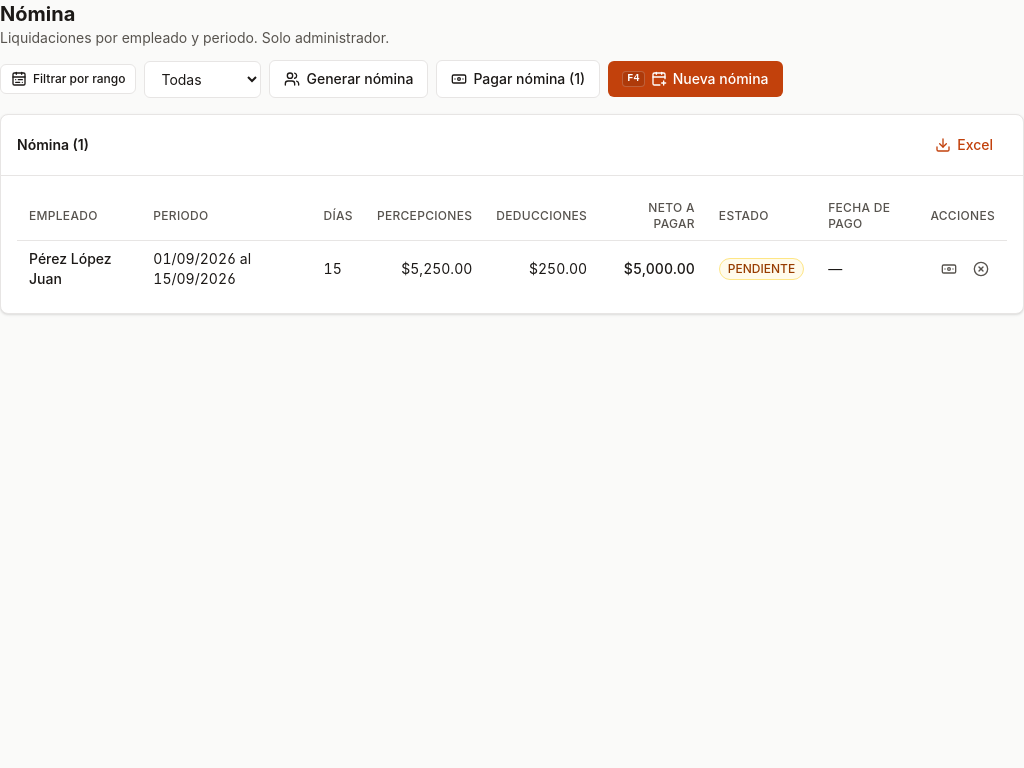
Test: NominaPage (smoke) › abre el diálogo de generar nómina por quincena
Expected: the text "Pérez López Juan" is shown, 29,250 -> 112,287
What coordinates should you click on to do the following:
click the button "Generar nómina"
I would click on:
 (349, 79)
Its box is 269,60 -> 428,98.
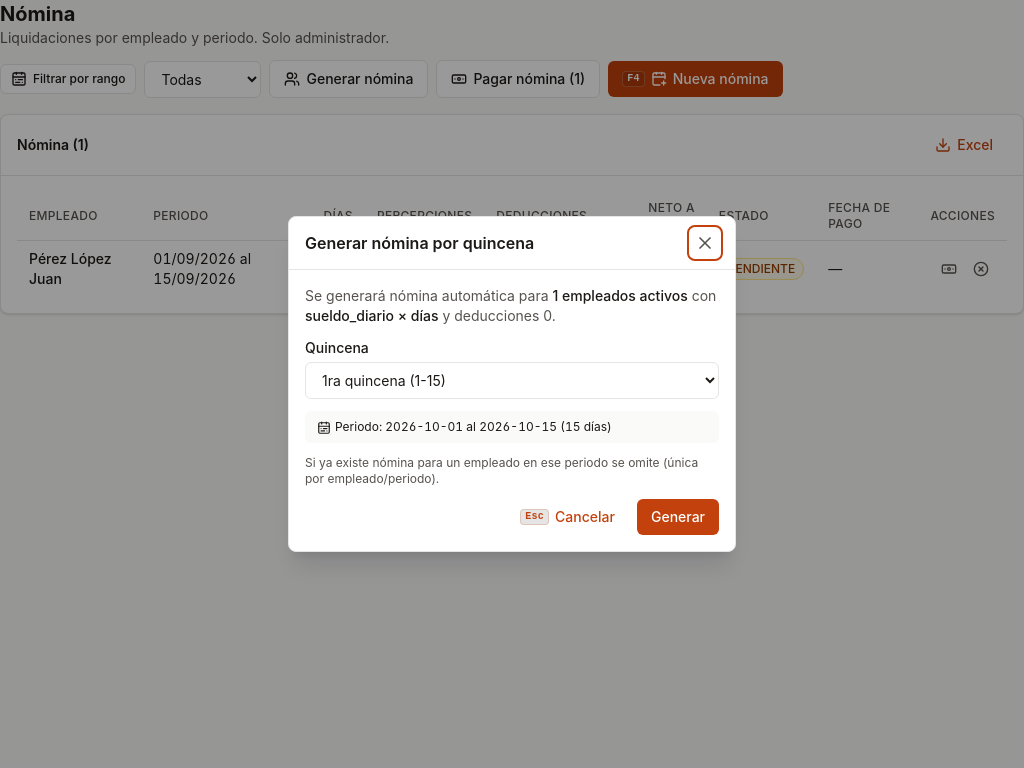
Expected: the heading "Generar nómina por quincena" is shown, 305,231 -> 534,255
Expected: the dropdown labelled "Quincena" is shown, 305,362 -> 719,399
Expected: the button "Generar" is shown, 637,499 -> 719,535
